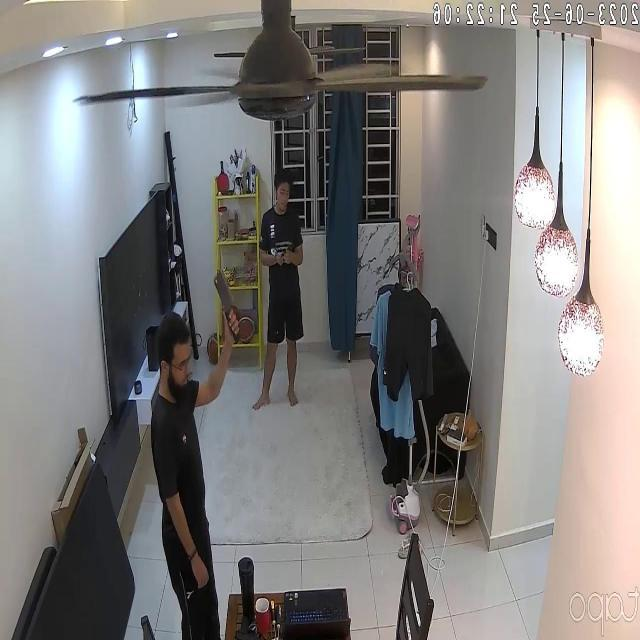Knife: (206, 254, 266, 344)
